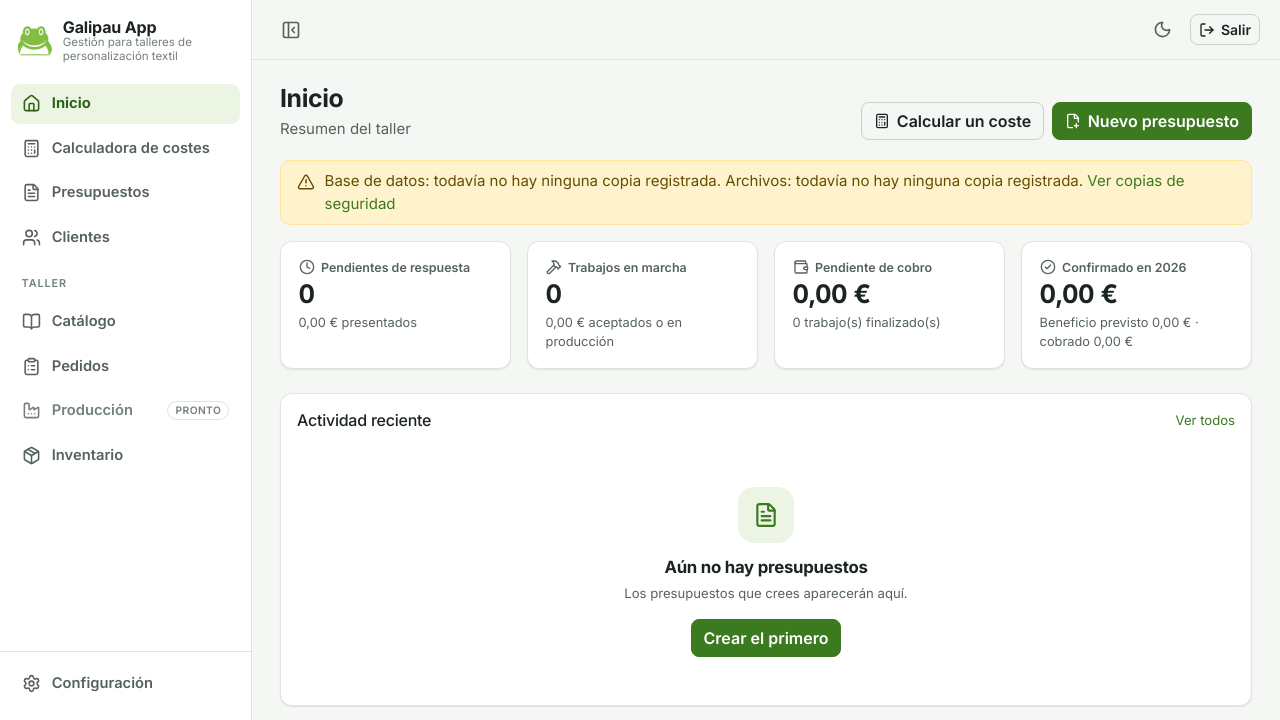
App en la nube — acceso › cerrar sesión vuelve al acceso
Click the button with aria-label "Cerrar sesión" at (1225, 30), box [1190, 14, 1260, 45]
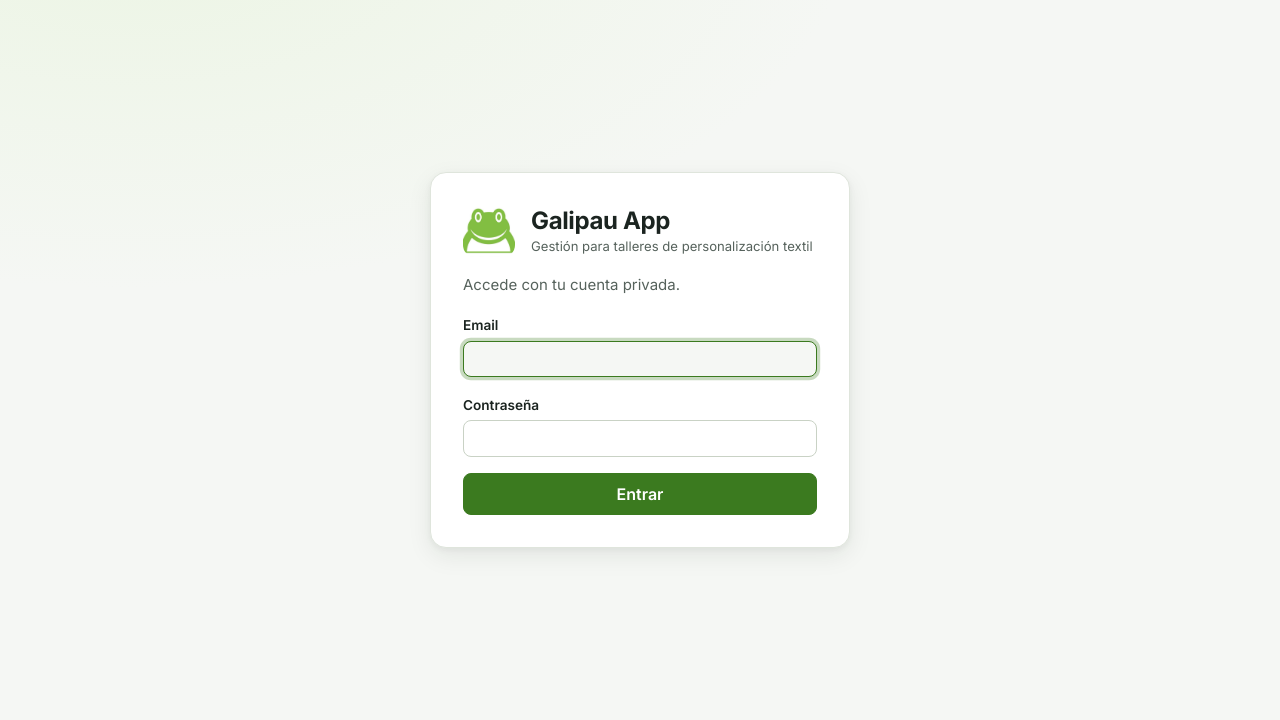
Expected: the field labelled "Email" is shown, [463, 340, 817, 377]
